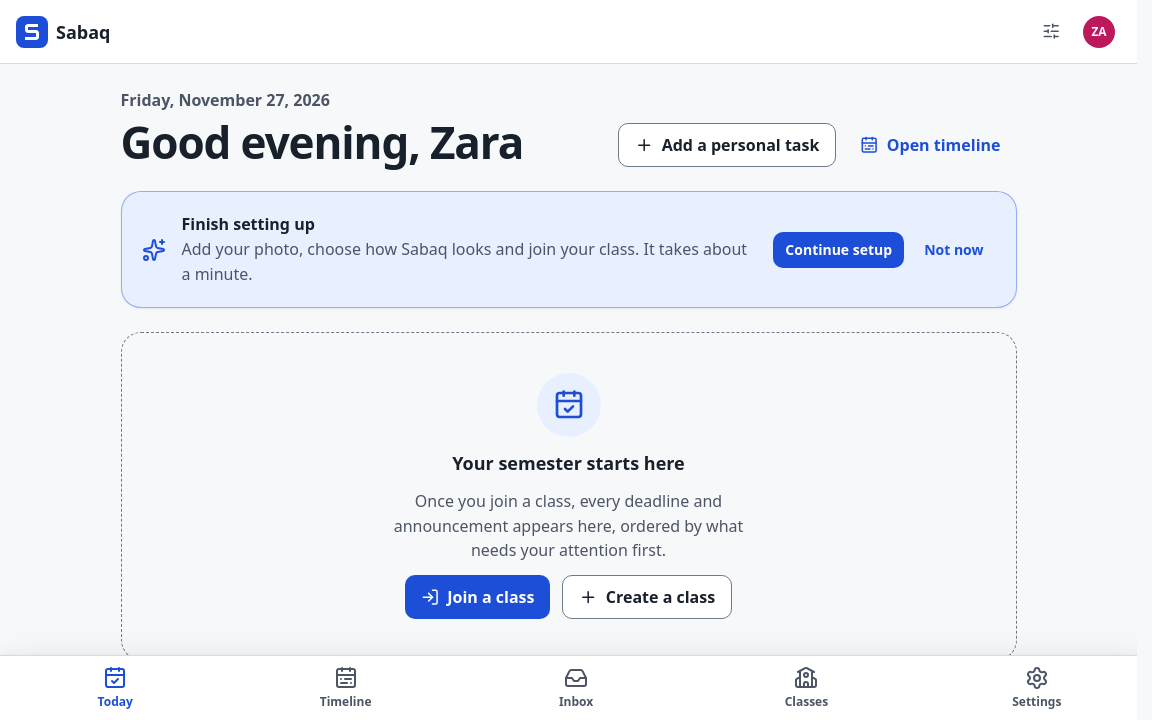
Test: Today › invites people who skipped the welcome steps to finish them, until dismissed
Click the button "Not now".
click(954, 250)  # box [912, 232, 996, 268]
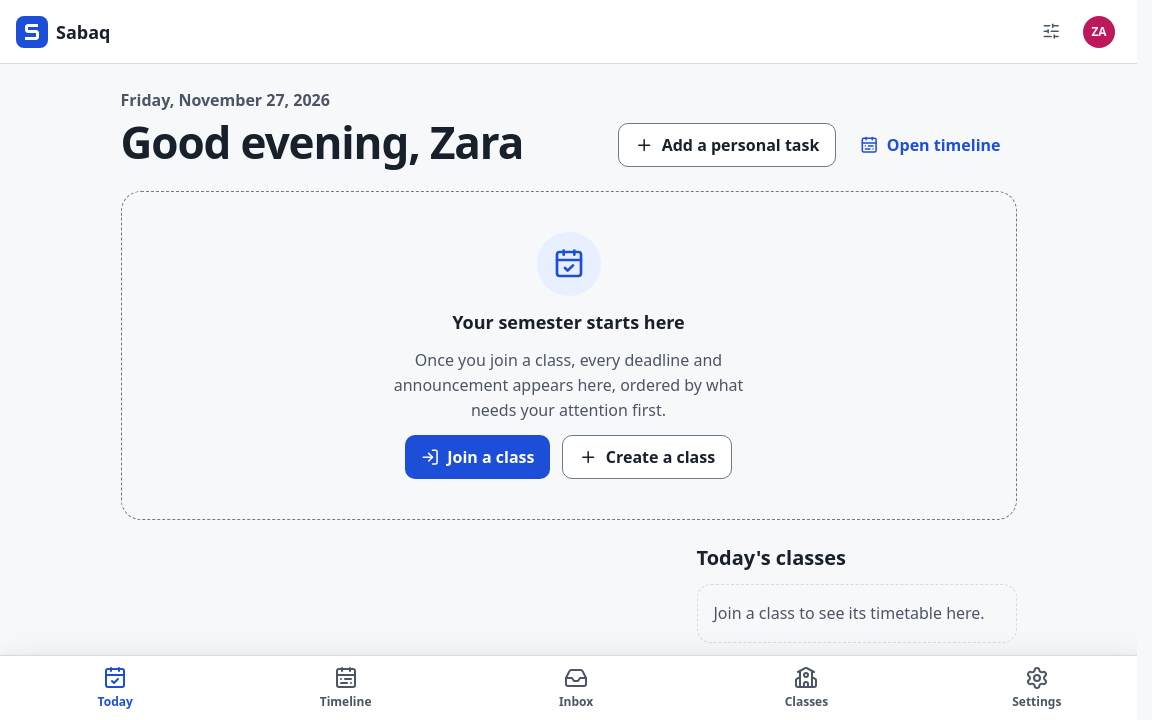
Expected: the heading "Finish setting up" is gone
